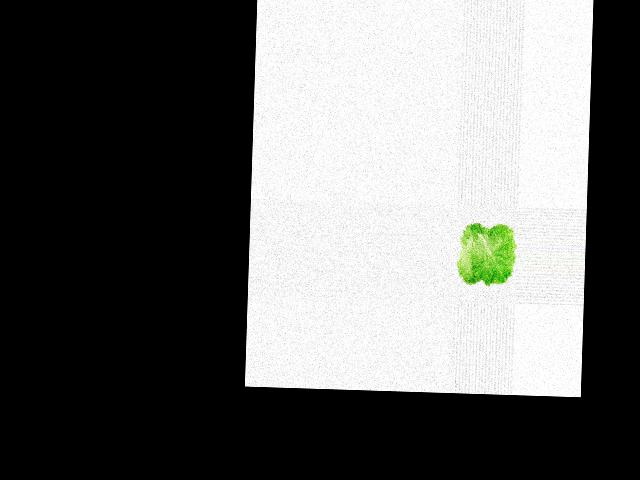lettuce: (454, 218, 518, 291)
